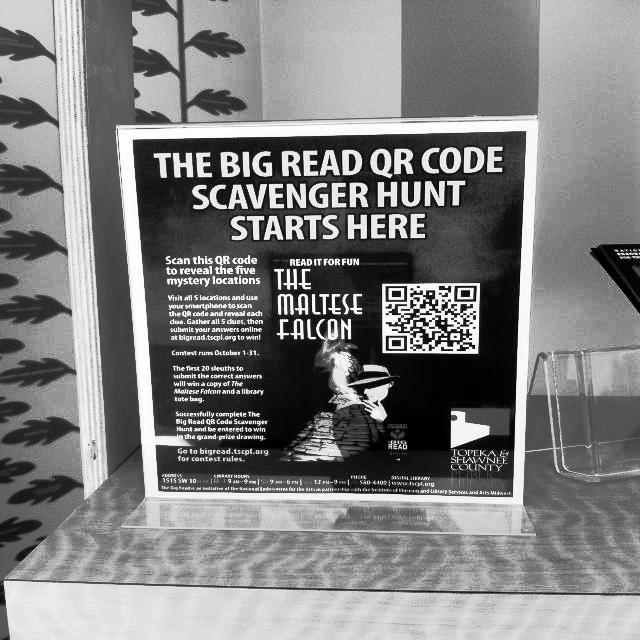qr_code: (386, 285, 477, 351)
